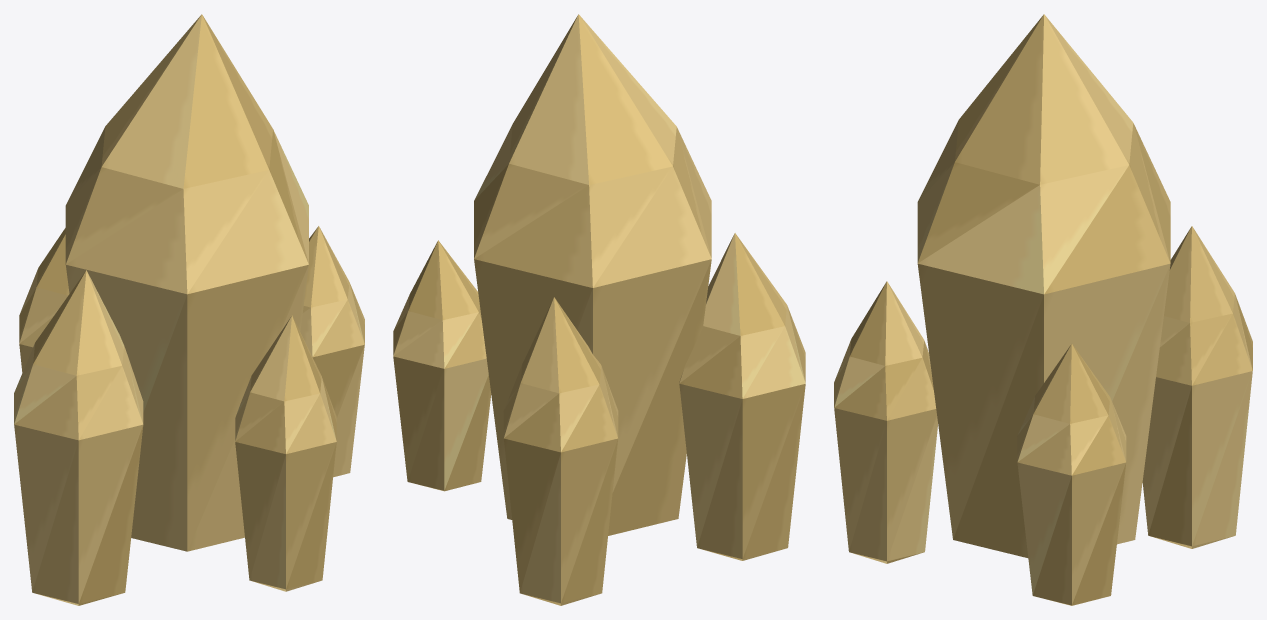
File: master.obj
3 renders of one model, left to right at view 1: azimuth 30°, elevation 25°; view 2: azimuth 150°, elevation 25°; view 3: azimuth 270°, elevation 25°, orthographic. The views are drawn at different scales.
Size of the model in its own units: 0.251 by 0.3355 by 0.2265.
Materials: 1 (1 with a texture image).
